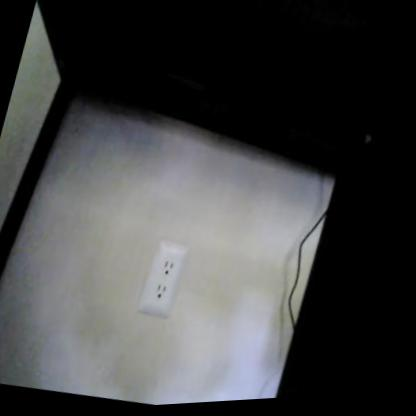OUTLET: (137, 239, 190, 318)
